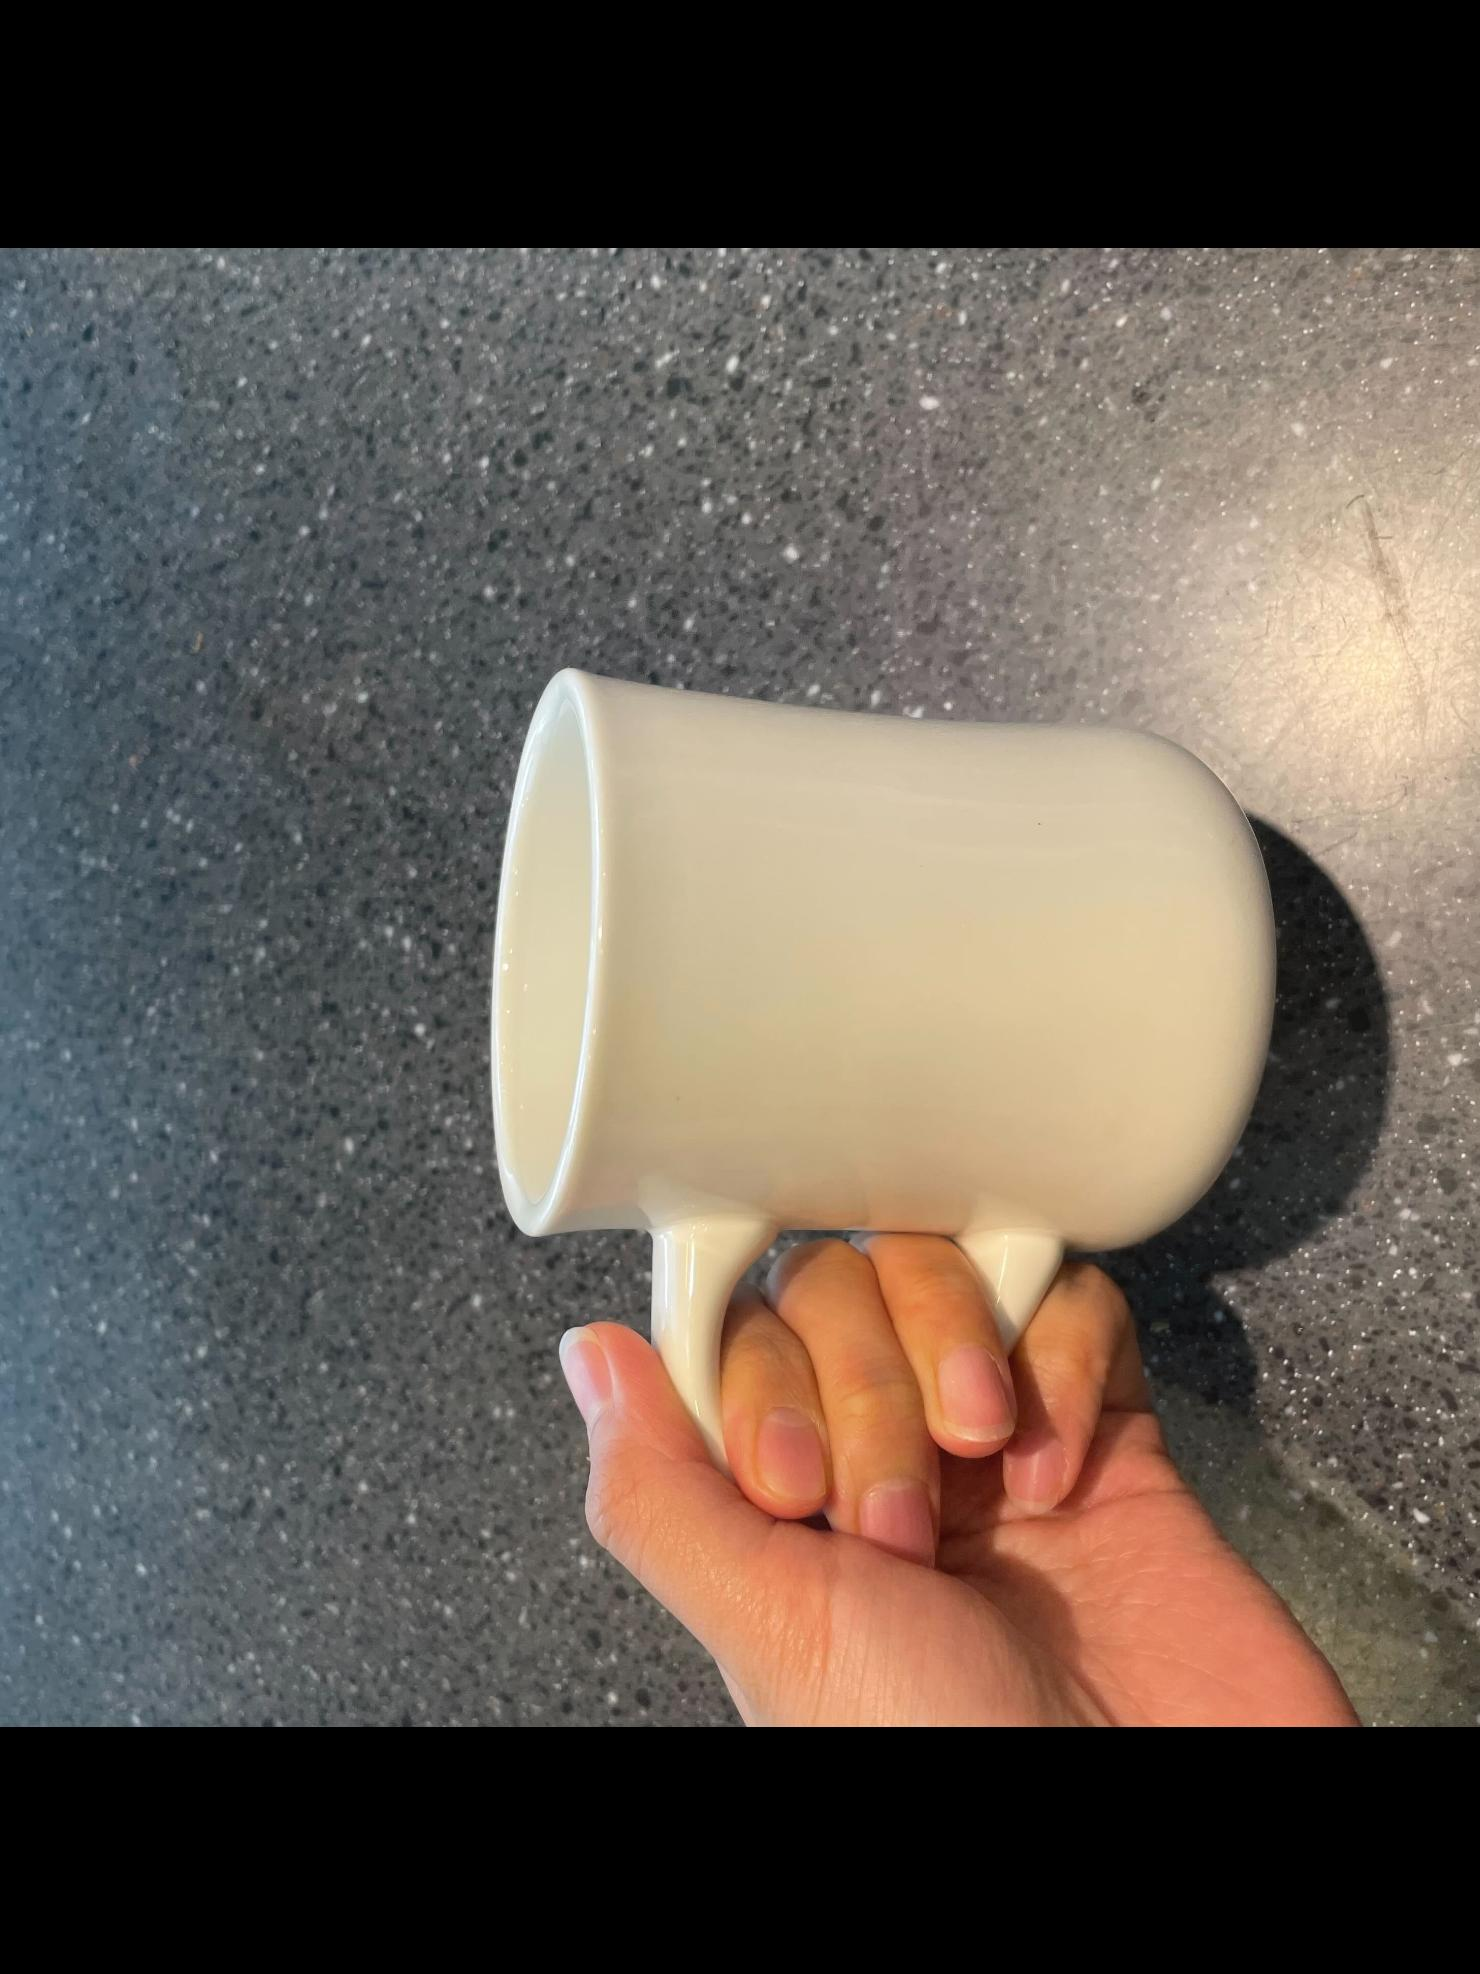cup: (483, 637, 1421, 1727)
